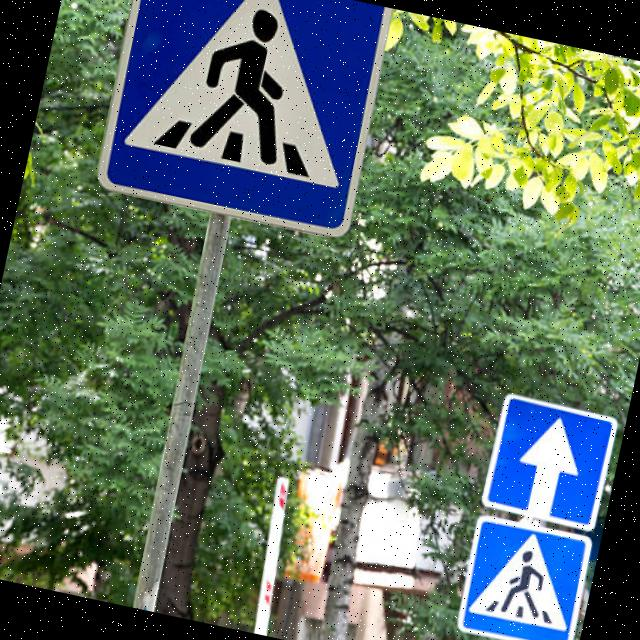crosswalk: (74, 0, 411, 254), (438, 509, 601, 640)
